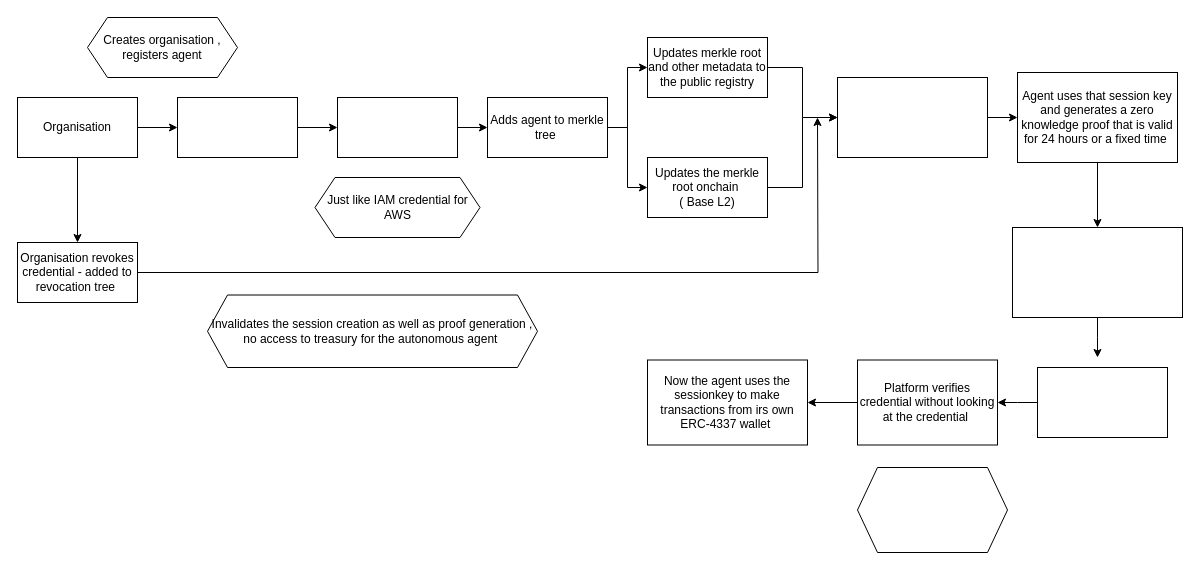
This 1200x570 diagram has some shape labels left out. The centre of each missing label's shape, as x and y in pixels:
"Agent calls the AGENTIX API and sends the proof to the platform" belongs at point (1102, 402).
"Agent connects with a third party platform" belongs at point (1097, 272).
"AGENTIX SERVER" belongs at point (237, 127).
"Organisation or the agent initiates a session which produces a session key" belongs at point (912, 117).
"Organisation signs and Issues credential to the agent" belongs at point (397, 127).
"Third party has NO ACCESS to the raw credential or org secrets" belongs at point (932, 509).
